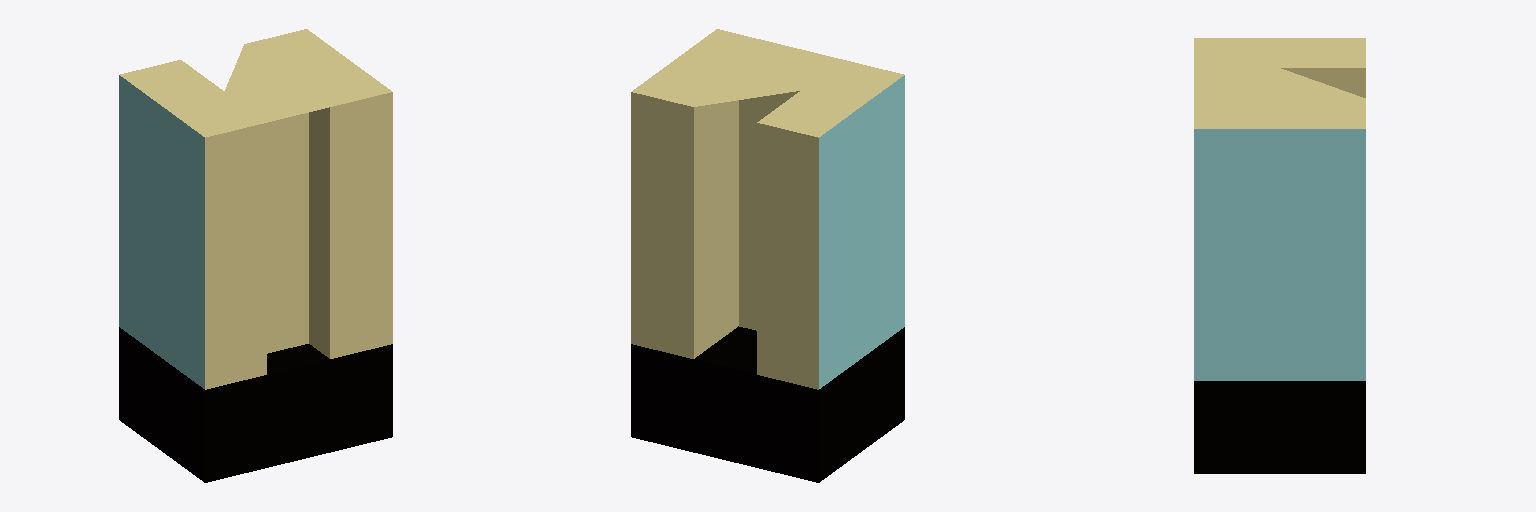
File: house03.obj
3 renders of one model, left to right at view 1: azimuth 30°, elevation 25°; view 2: azimuth 150°, elevation 25°; view 3: azimuth 270°, elevation 25°, orthographic.
Visible parts, largest first — view 1: Line1706, Line3401, ??008; view 2: Line1706, Line3401, ??008; view 3: ??008, Line3401, Line1706.
Part boxes in pixels (left/top/right/bottom): Line1706: left=120, top=29, right=392, bottom=389; Line3401: left=119, top=327, right=392, bottom=482; ??008: left=119, top=75, right=204, bottom=388; Line1706: left=631, top=29, right=903, bottom=389; Line3401: left=631, top=326, right=904, bottom=482; ??008: left=819, top=75, right=904, bottom=388; ??008: left=1194, top=129, right=1365, bottom=380; Line3401: left=1194, top=381, right=1365, bottom=473; Line1706: left=1194, top=38, right=1365, bottom=128.
Size of the model in its own units: 1992 by 3500 by 1581.